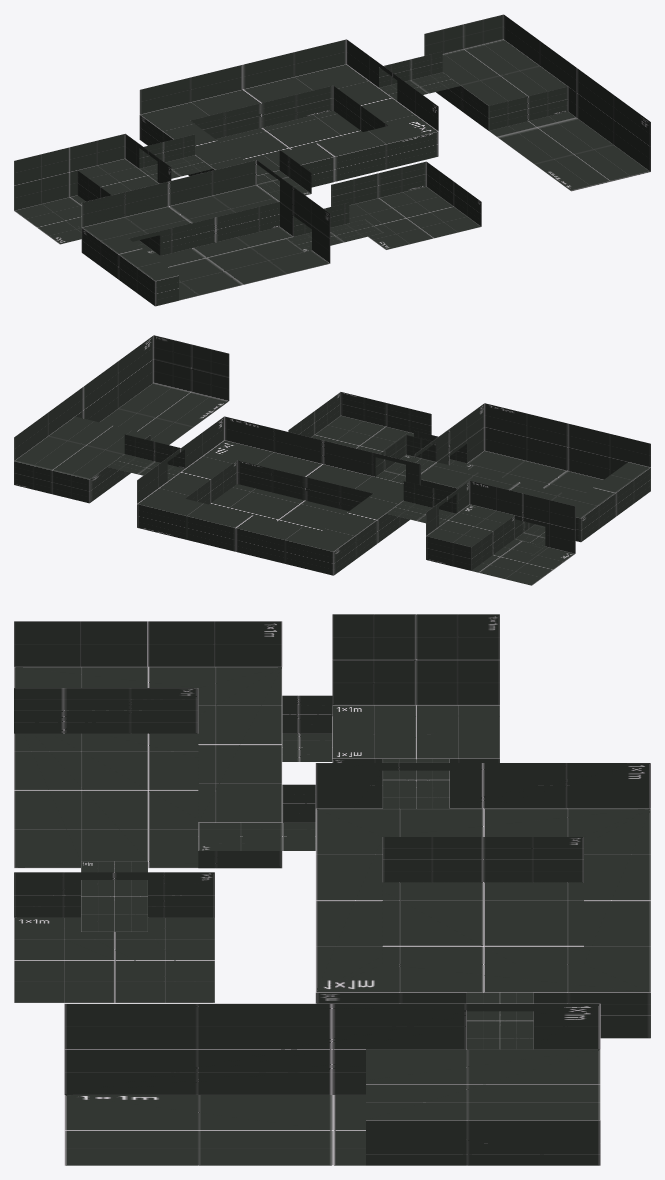
Rendered from main_level.gltf.
3 views of the same model, one above another, from view 1: azimuth 30°, elevation 25°; view 2: azimuth 150°, elevation 25°; view 3: azimuth 270°, elevation 25° (orthographic). The views are drawn at different scales.
Visible parts, largest first — view 1: Room2, Overhang33, Overhang2, Overhang43, Overhang24; view 2: Room2, Overhang33, Overhang43, Overhang2, Overhang24; view 3: Room2, Overhang33, Overhang43, Overhang2, Overhang24.
Part boxes in pixels (x1,y1,x2,y2): Room2: [14, 14, 650, 300]; Overhang33: [139, 64, 438, 187]; Overhang2: [81, 185, 279, 306]; Overhang43: [436, 39, 568, 130]; Overhang24: [77, 158, 158, 201]; Room2: [14, 335, 650, 585]; Overhang33: [137, 440, 409, 575]; Overhang43: [14, 416, 150, 503]; Overhang2: [421, 462, 650, 542]; Overhang24: [426, 504, 514, 570]; Room2: [14, 614, 650, 1165]; Overhang33: [315, 808, 650, 1038]; Overhang43: [366, 1049, 600, 1165]; Overhang2: [14, 667, 282, 868]; Overhang24: [332, 716, 499, 762].
Bounding box in the file's own units: 65 × 6 × 38.
Materials: 1 (1 with a texture image).
